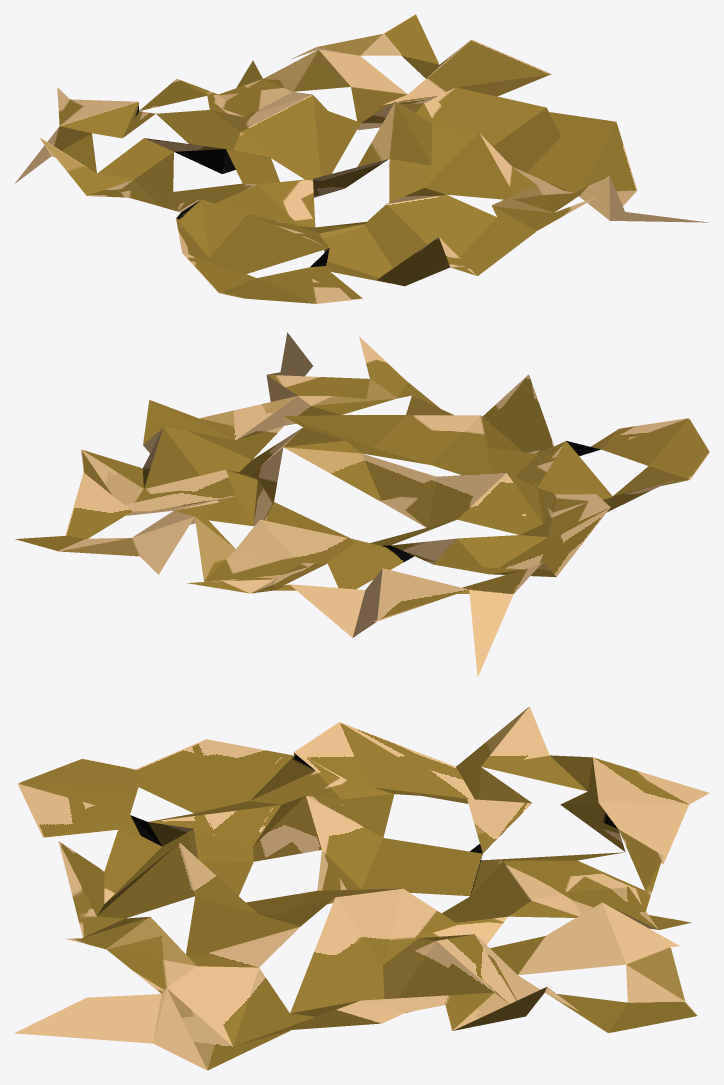
File: Moss.gltf
The picture shows the model from 3 angles, top to bottom: view 1: azimuth 30°, elevation 25°; view 2: azimuth 150°, elevation 25°; view 3: azimuth 270°, elevation 25°; orthographic projection. The views are drawn at different scales.
Parts seen in each view (by area): view 1: Moss; view 2: Moss; view 3: Moss.
Part boxes in pixels (left/top/right/bottom): Moss: left=14, top=14, right=708, bottom=303; Moss: left=14, top=332, right=709, bottom=676; Moss: left=14, top=706, right=709, bottom=1070.
Size of the model in its own units: 1.17 by 0.1969 by 1.2.
Materials: 1 (1 with a texture image).
